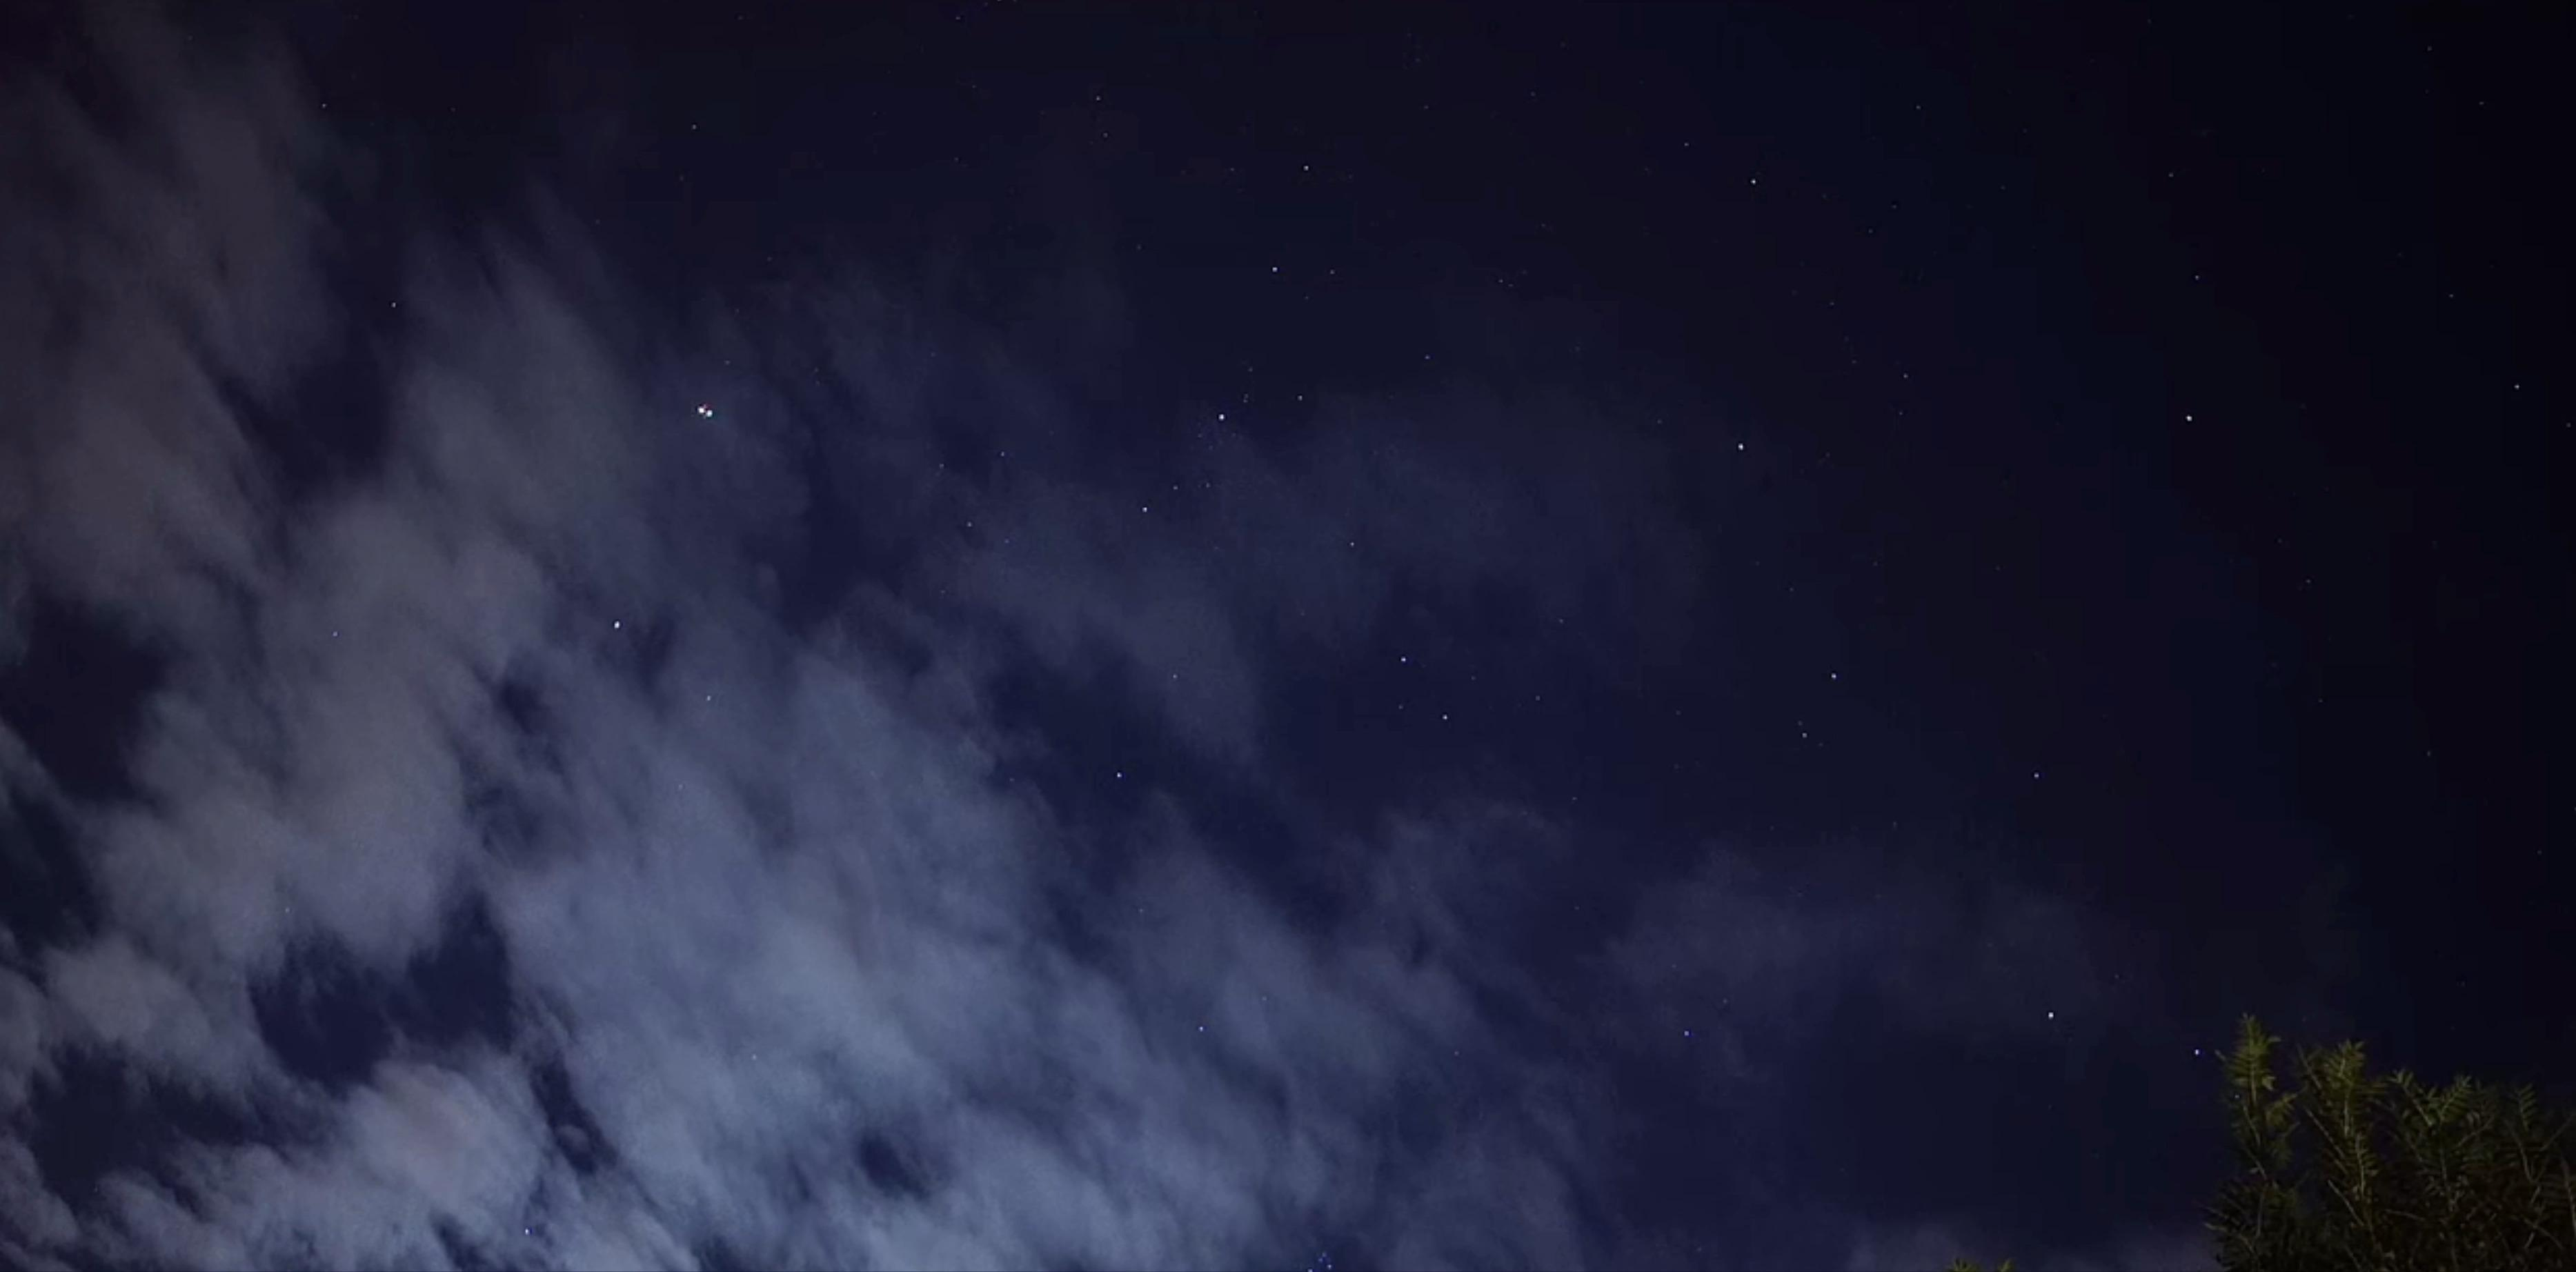Plane: (687, 398, 729, 426)
